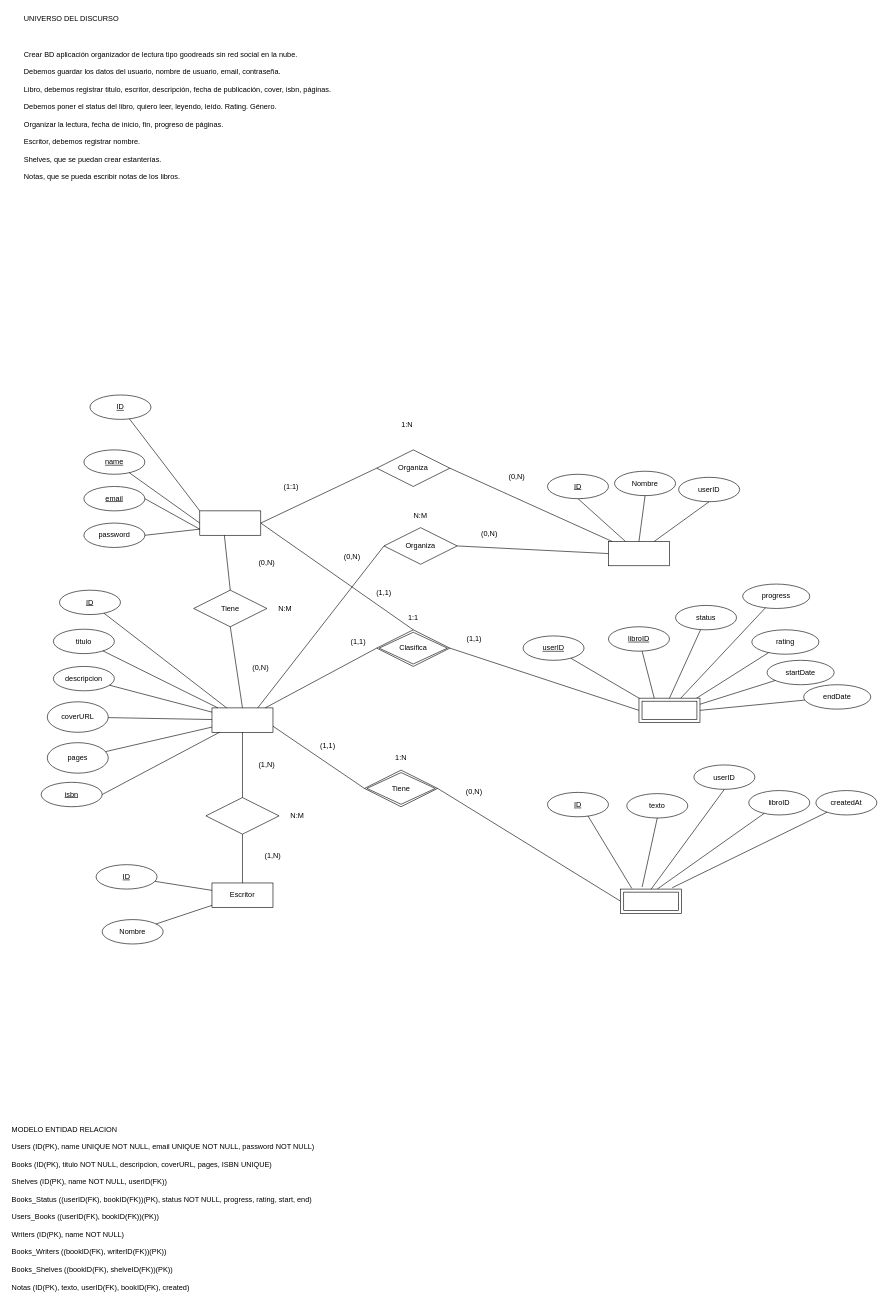
This 888x1314 diagram has some shape labels left out. The centre of each missing label's shape, as x and y in pixels:
"BookStatus" goes at point (669, 710).
"Escribe" goes at point (242, 815).
"Libro" goes at point (242, 719).
"Notas" goes at point (651, 900).
"Shelves" goes at point (638, 553).
"User" goes at point (230, 522).
